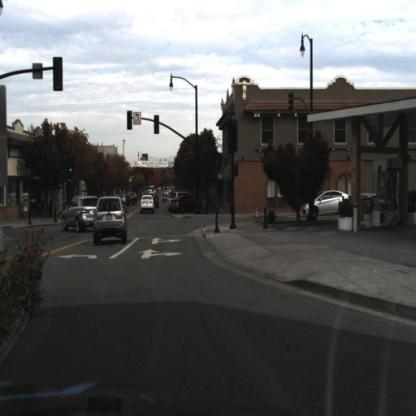car: (59, 193, 99, 233), (94, 197, 128, 244), (305, 189, 349, 216), (171, 196, 198, 212), (139, 194, 155, 215)
trafficLight-Green: (153, 118, 160, 134)
trafficLight-GreenLeft: (70, 160, 76, 181)
trafficLight-RedLeft: (128, 113, 133, 129)
